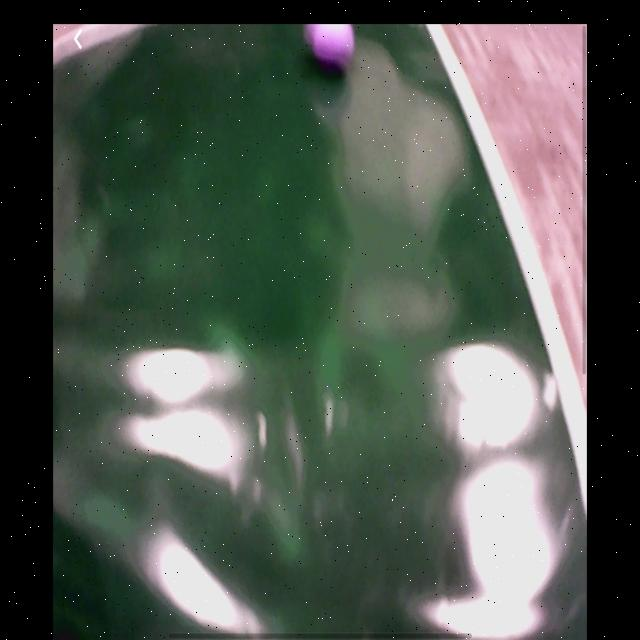ball: (304, 22, 357, 75)
